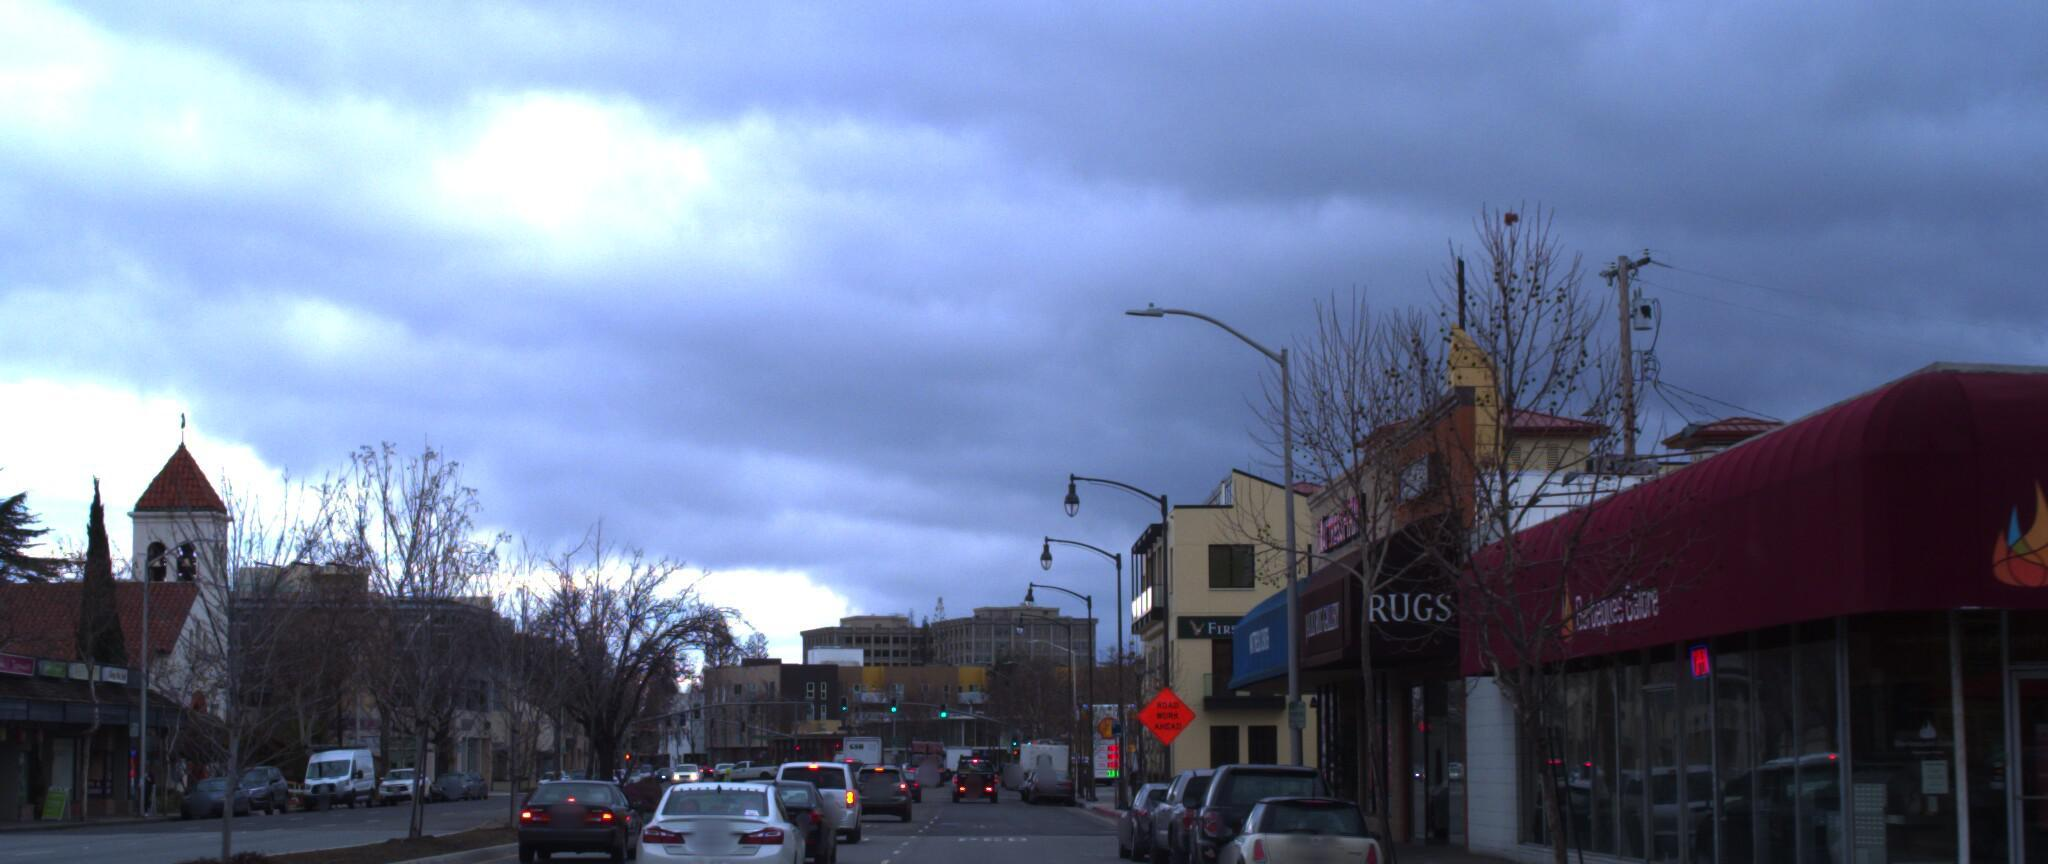car: (635, 769, 812, 864), (1164, 765, 1327, 864), (1196, 788, 1378, 864), (1143, 767, 1280, 864), (714, 754, 835, 852), (505, 767, 640, 854), (784, 753, 872, 827)
